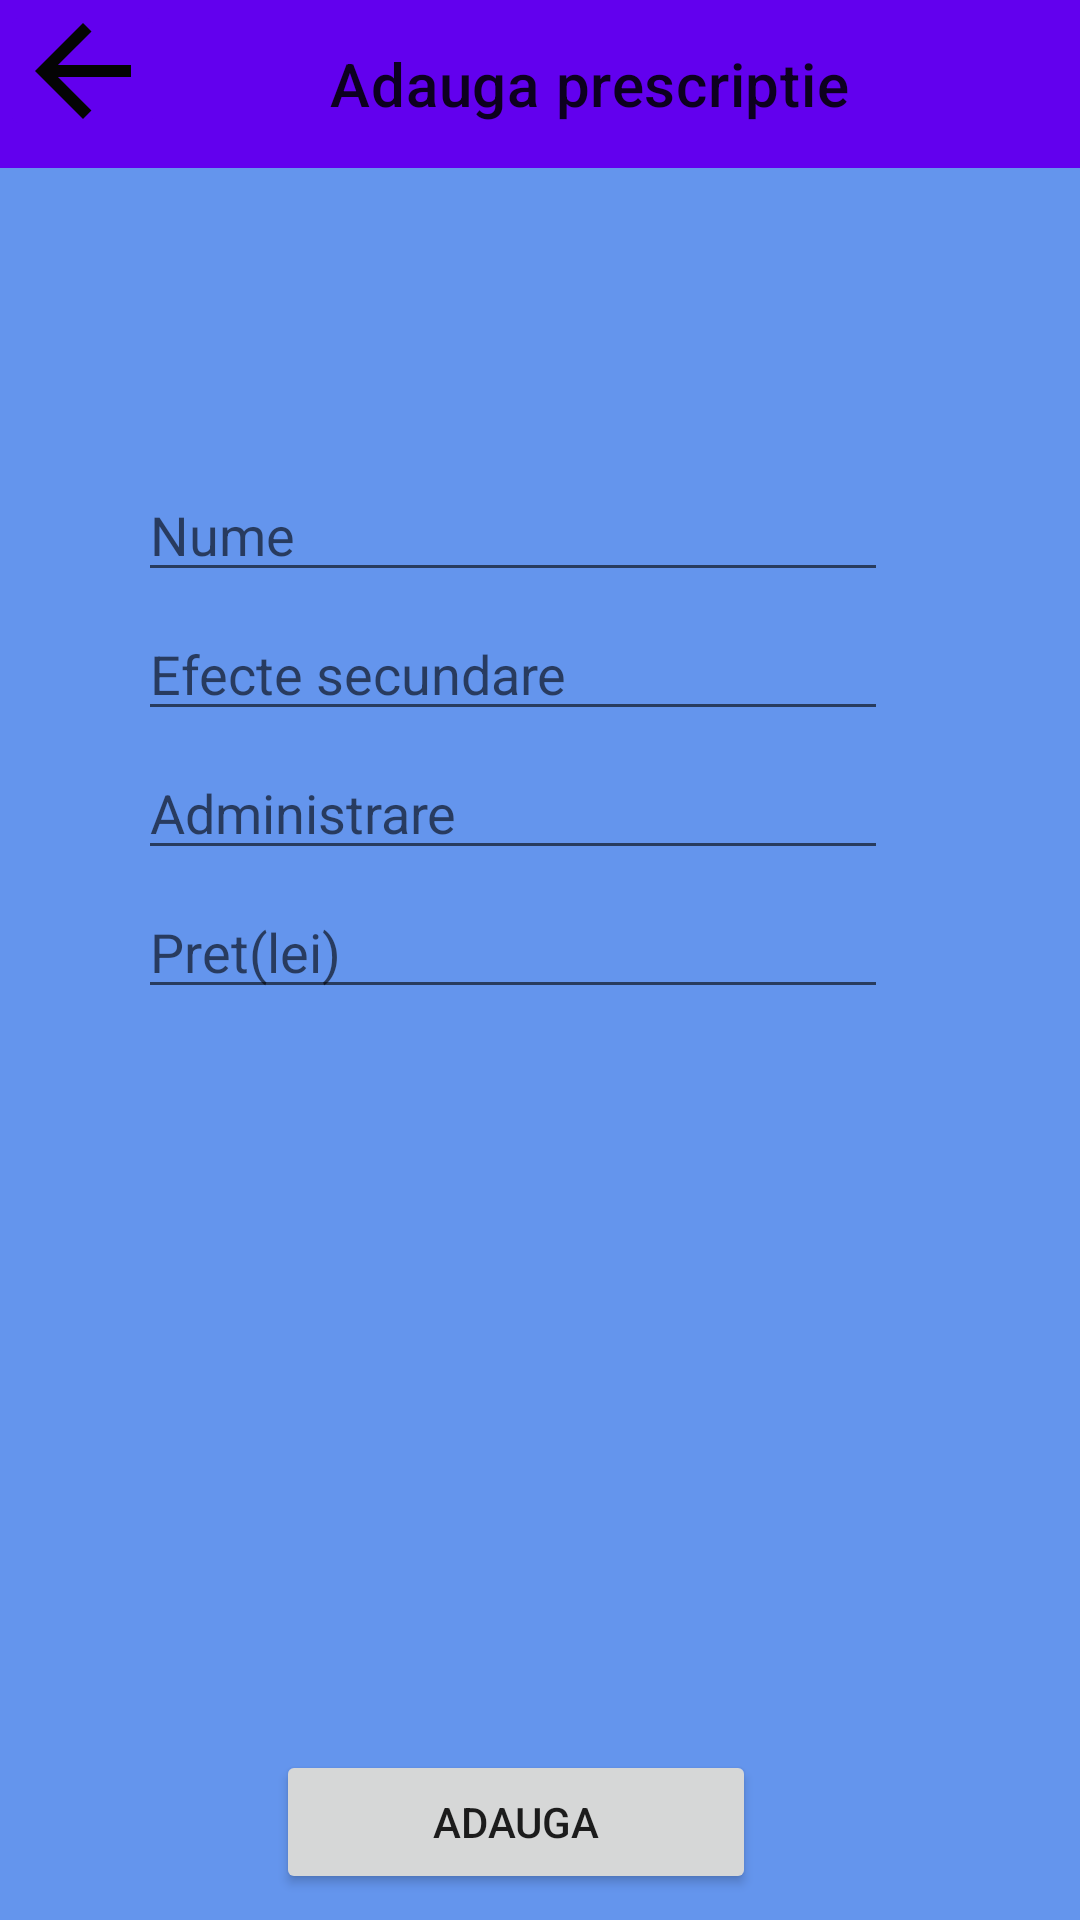

Icons on this 1080*1920 Android screen, each with the point to tap as (x,y):
arrow back: (83,71)
